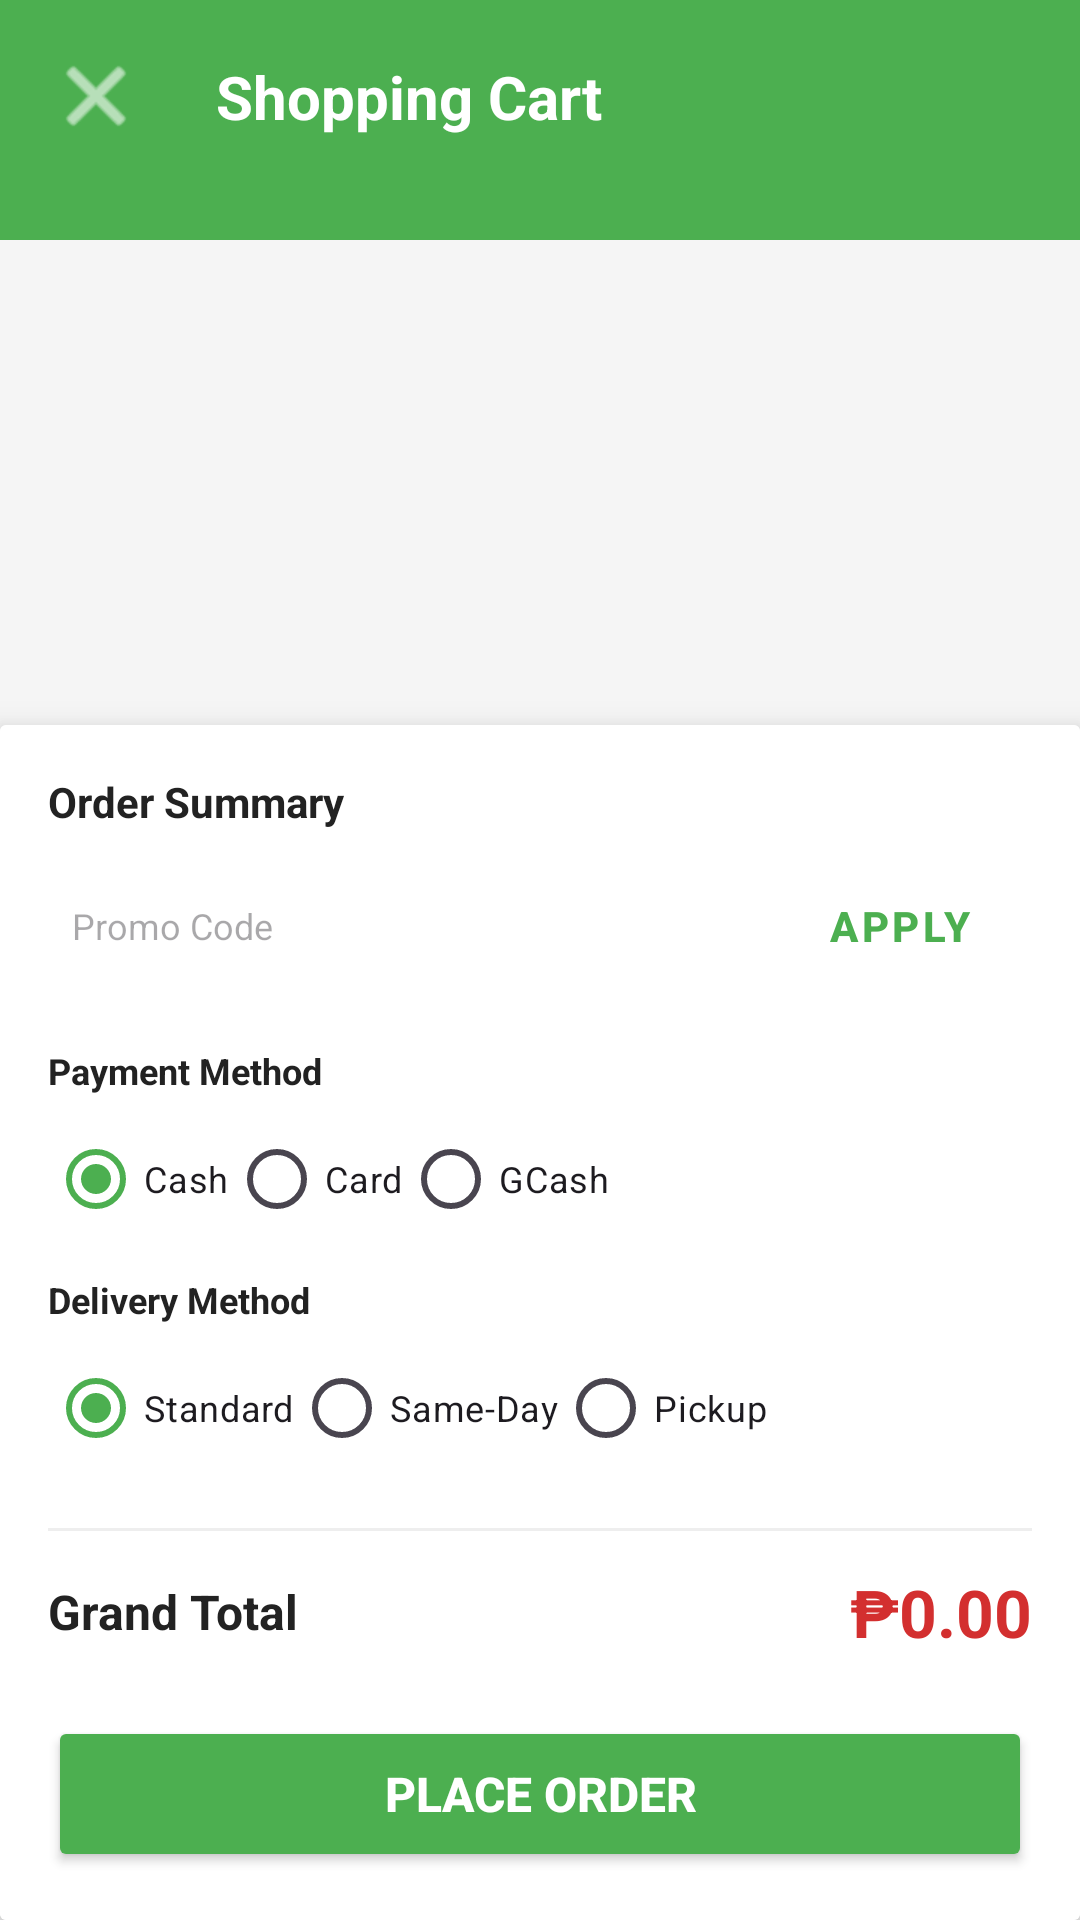

Icons on this 1080px x 1920px Android screen, each with its box as (x1,y1,x2,y2):
close clear cancel: (66,66,126,126)
